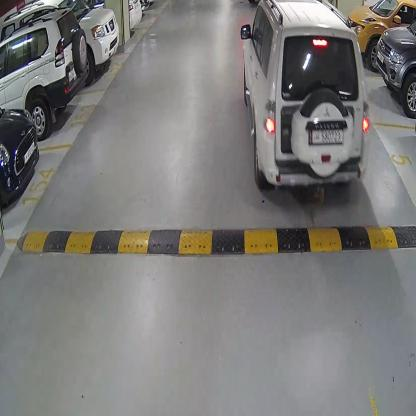np: (309, 131, 343, 145)
